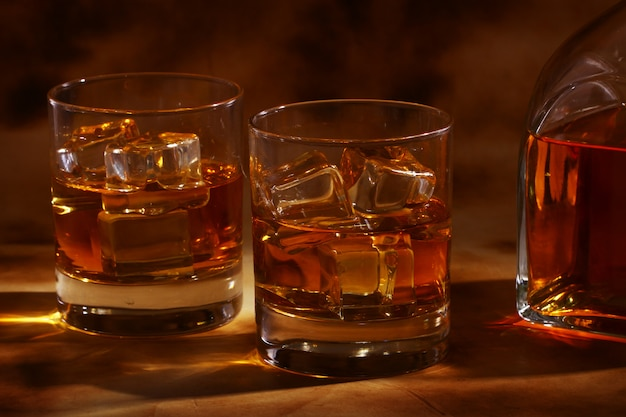alcohol: (247, 98, 456, 382), (46, 75, 247, 337), (515, 4, 626, 347)
